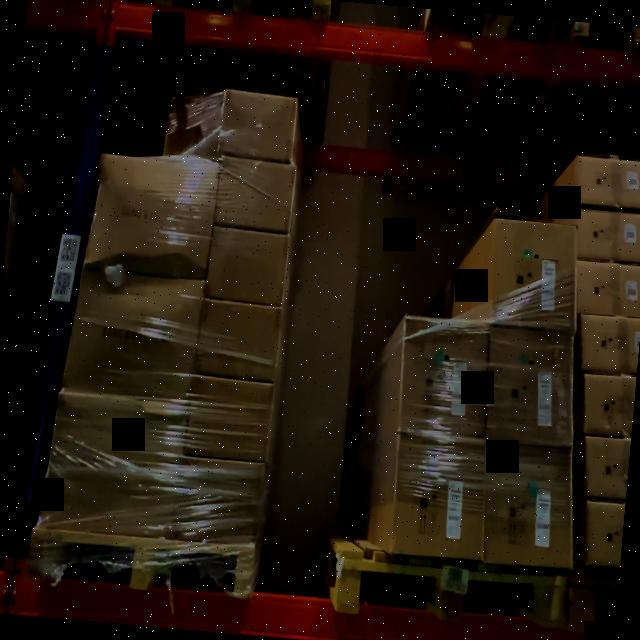box: (46, 397, 186, 536), (73, 269, 201, 395), (90, 156, 216, 276), (396, 322, 489, 438), (389, 444, 484, 556), (484, 451, 574, 563), (486, 336, 572, 442), (492, 219, 576, 327), (188, 380, 272, 458), (196, 302, 280, 379), (181, 464, 263, 537), (208, 231, 286, 304), (216, 159, 292, 230), (221, 90, 296, 159)
